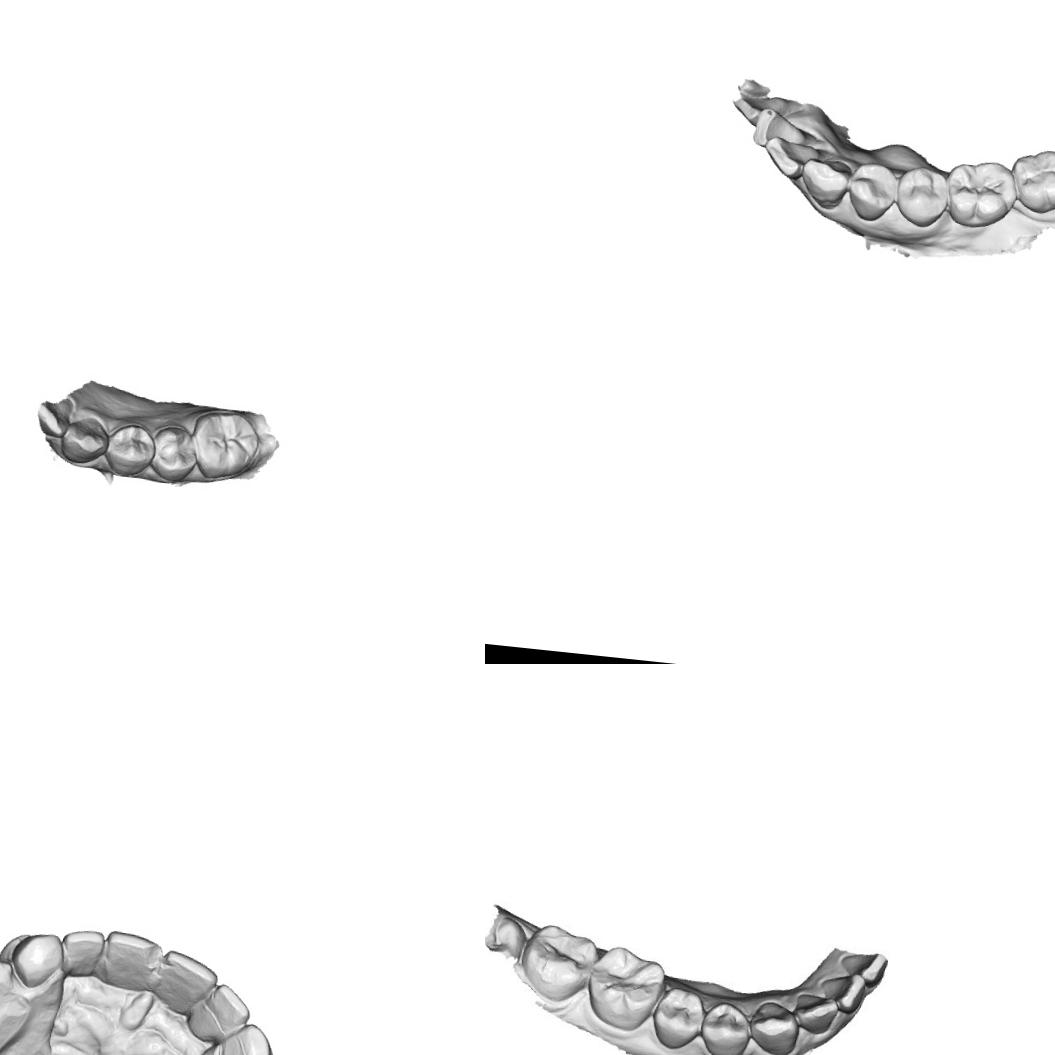canine: (796, 152, 860, 214), (10, 924, 68, 989), (746, 996, 802, 1055), (57, 414, 112, 466), (215, 1022, 270, 1055)
incisor: (154, 942, 218, 1018), (100, 926, 162, 996), (188, 977, 254, 1041), (764, 134, 822, 185), (751, 104, 810, 154), (59, 924, 106, 981), (817, 970, 871, 1016), (792, 992, 840, 1038), (34, 394, 74, 439)
molar: (580, 942, 665, 1035), (518, 921, 600, 1006), (941, 154, 1022, 234), (187, 406, 263, 484), (1007, 143, 1055, 219)
premolar: (843, 157, 904, 228), (894, 162, 954, 234), (648, 985, 710, 1051), (696, 998, 755, 1055), (102, 421, 158, 480), (149, 424, 201, 485), (0, 949, 21, 1005)
